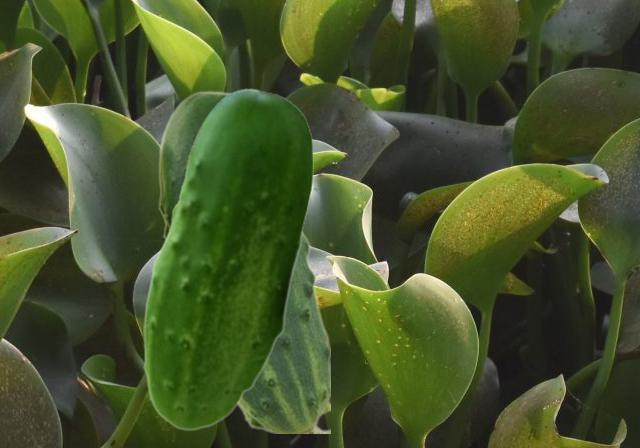cucumber: (158, 90, 329, 432), (143, 88, 312, 430)
